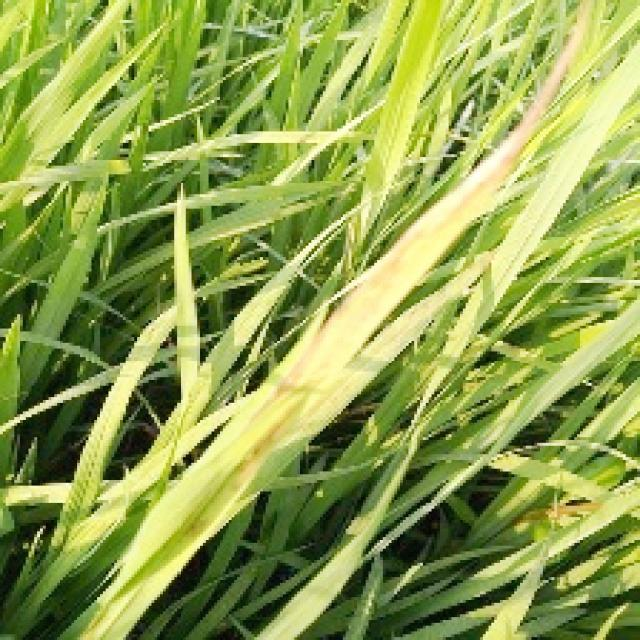health: (230, 25, 640, 581)
